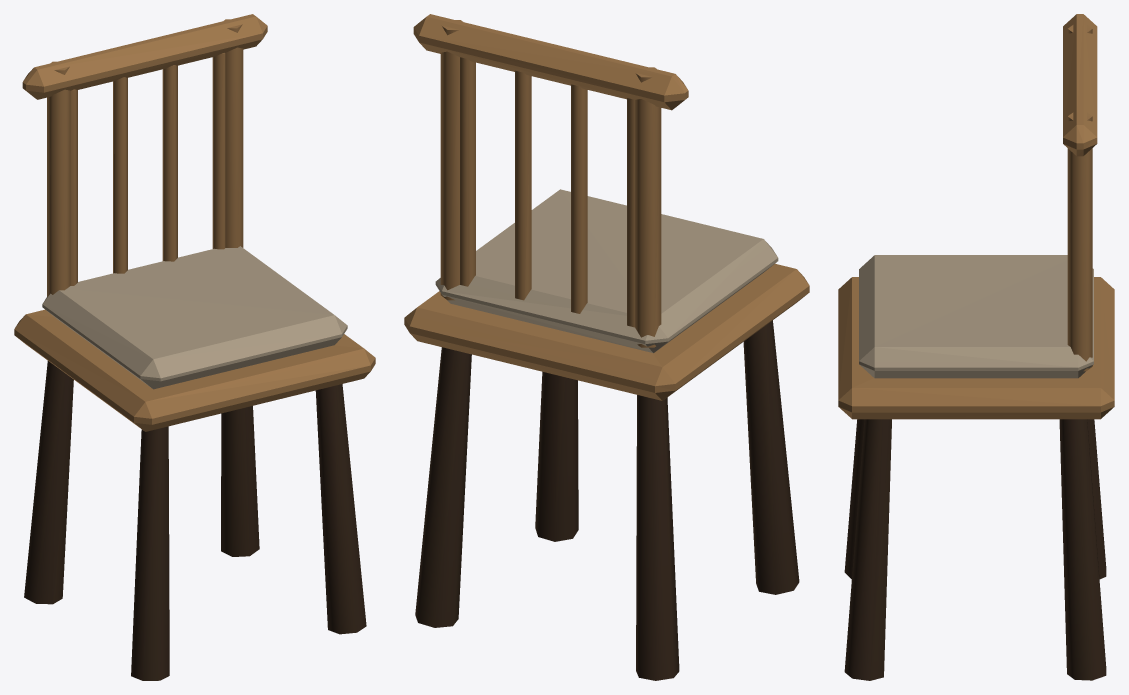
Rendered from desk-chair.glb.
3 renders of one model, left to right at view 1: azimuth 30°, elevation 25°; view 2: azimuth 150°, elevation 25°; view 3: azimuth 270°, elevation 25°, orthographic. The views are drawn at different scales.
Parts seen in each view (by area): view 1: desk_chair; view 2: desk_chair; view 3: desk_chair.
Boxes of the visible parts, box(x1,y1,x2,y2) form: desk_chair: box(14, 14, 375, 680); desk_chair: box(404, 14, 809, 680); desk_chair: box(838, 14, 1114, 680).
Size of the model in its own units: 0.42 by 0.8866 by 0.4.
